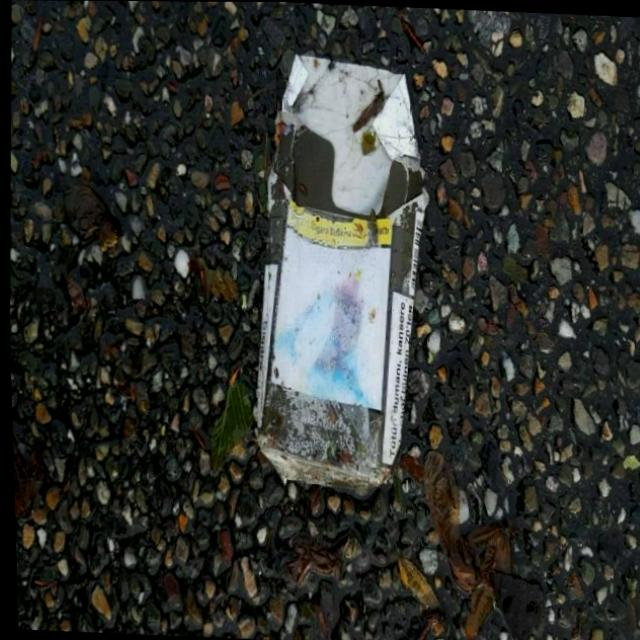Paper: (236, 45, 441, 495)
